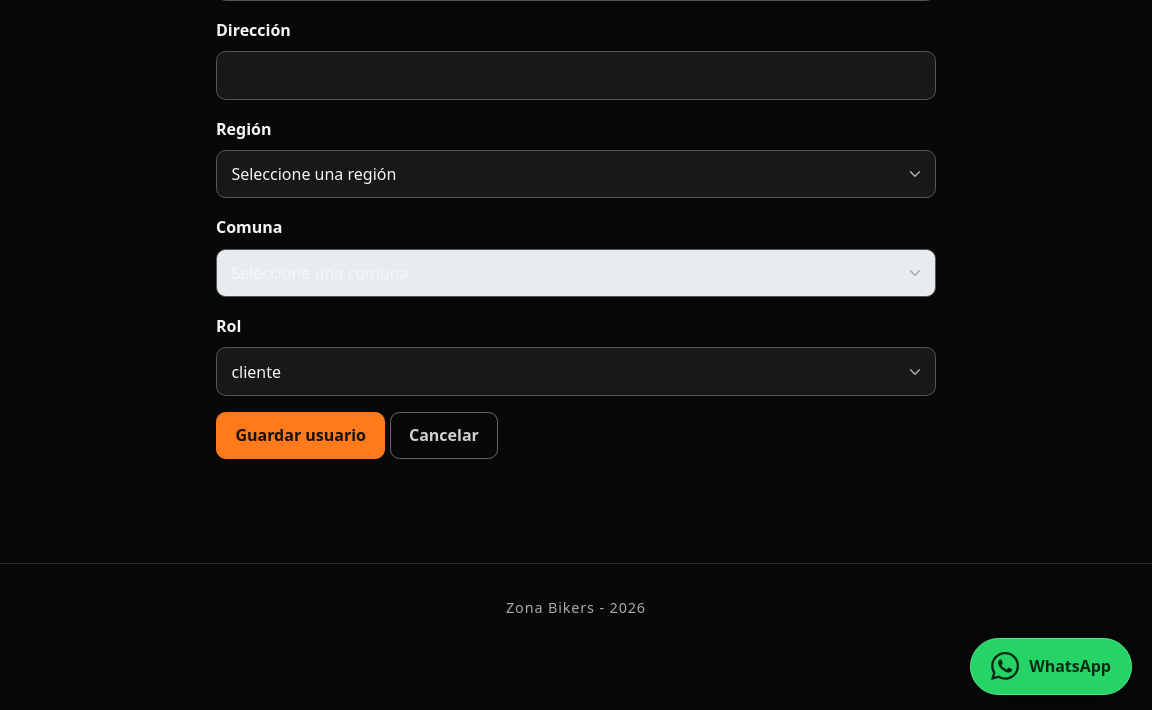
Test case: Administración persistente › crea una cuenta y vuelve al listado
The width and height of the screenshot is (1152, 710).
(page scrolled)
Click the button "Guardar usuario": click(301, 435) [216, 412, 385, 459]
(page scrolled)
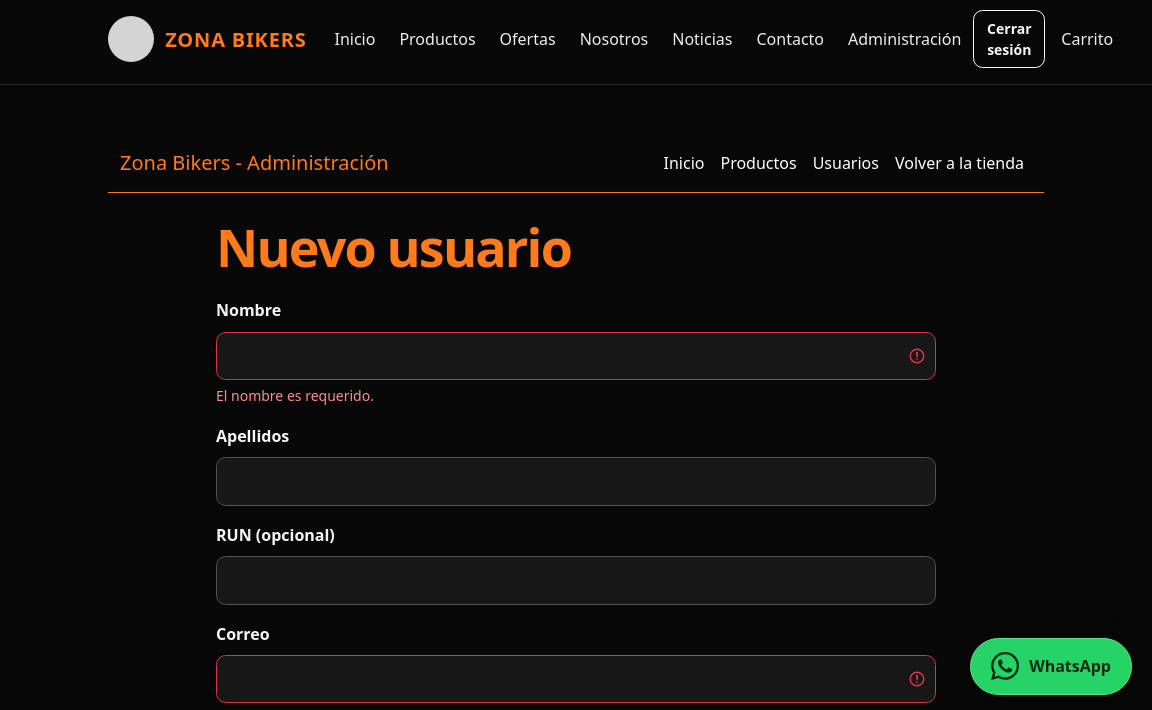
Expected: the text "El nombre es requerido." is shown, [216, 386, 374, 405]
In the field labelled "Nombre": (576, 356) [216, 332, 936, 380], type "Persona de prueba"
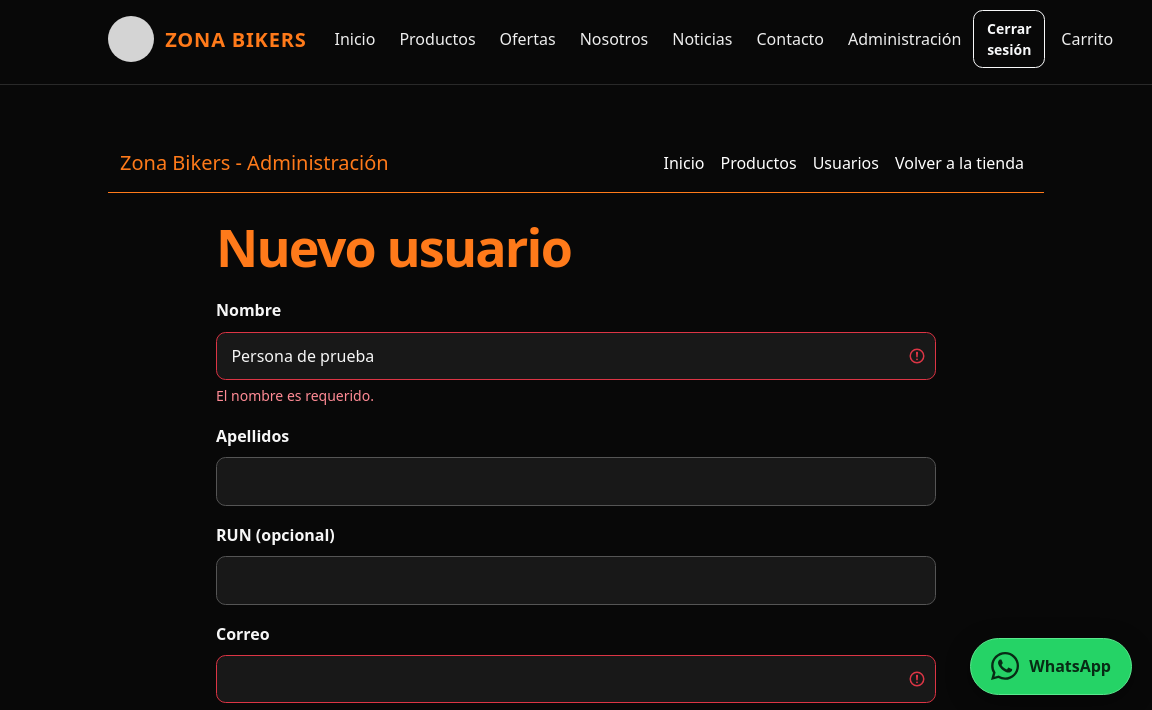
In the field labelled "Correo": (576, 679) [216, 655, 936, 703], type "persona@gmail.com"
(page scrolled)
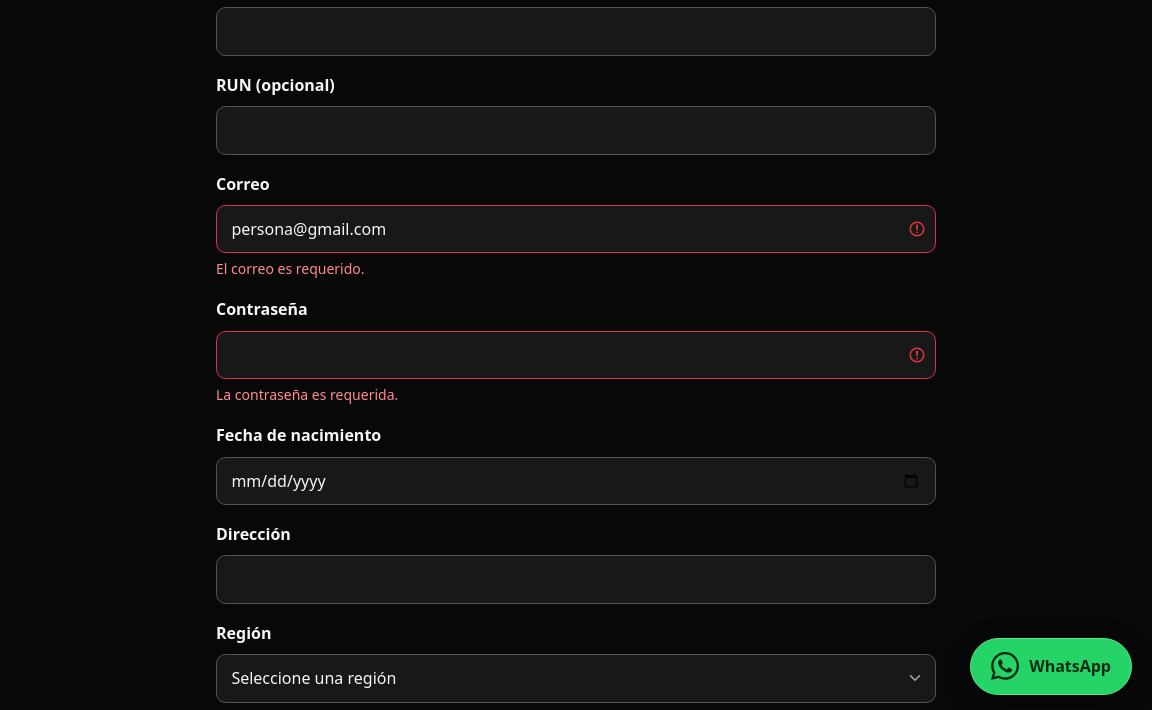
In the password field labelled "Contraseña": (576, 355) [216, 331, 936, 379], type "12345"
(page scrolled)
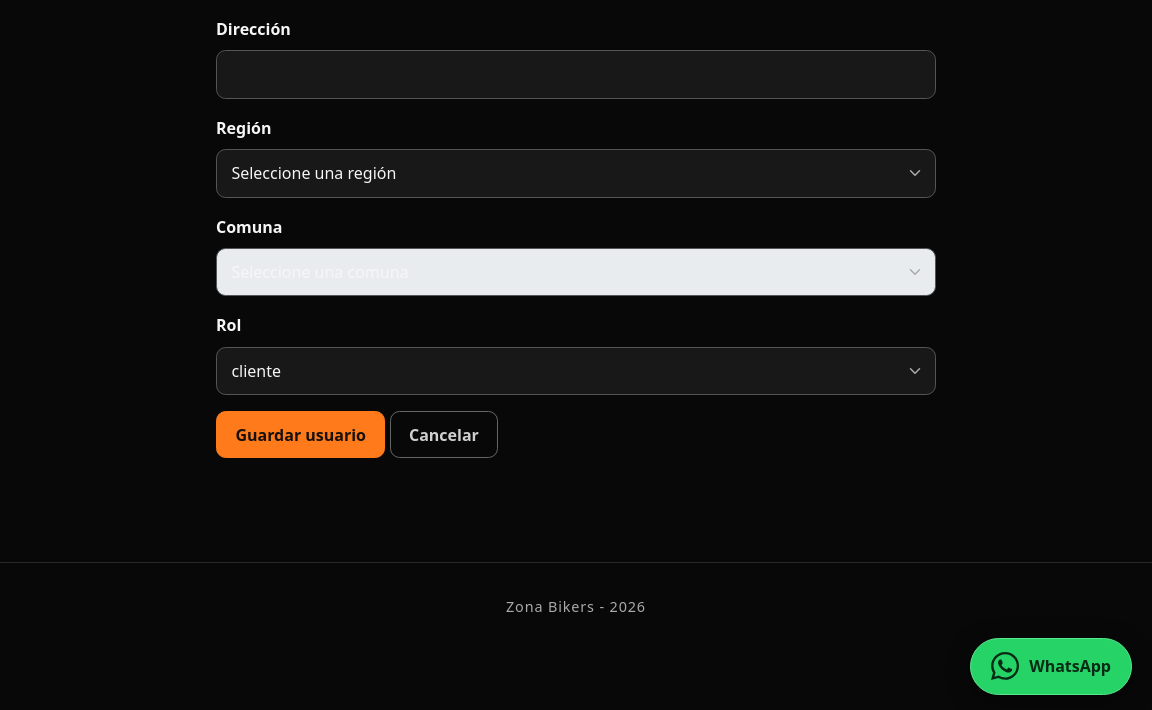
Select "vendedor" in the dropdown labelled "Rol": (576, 371) [216, 347, 936, 395]
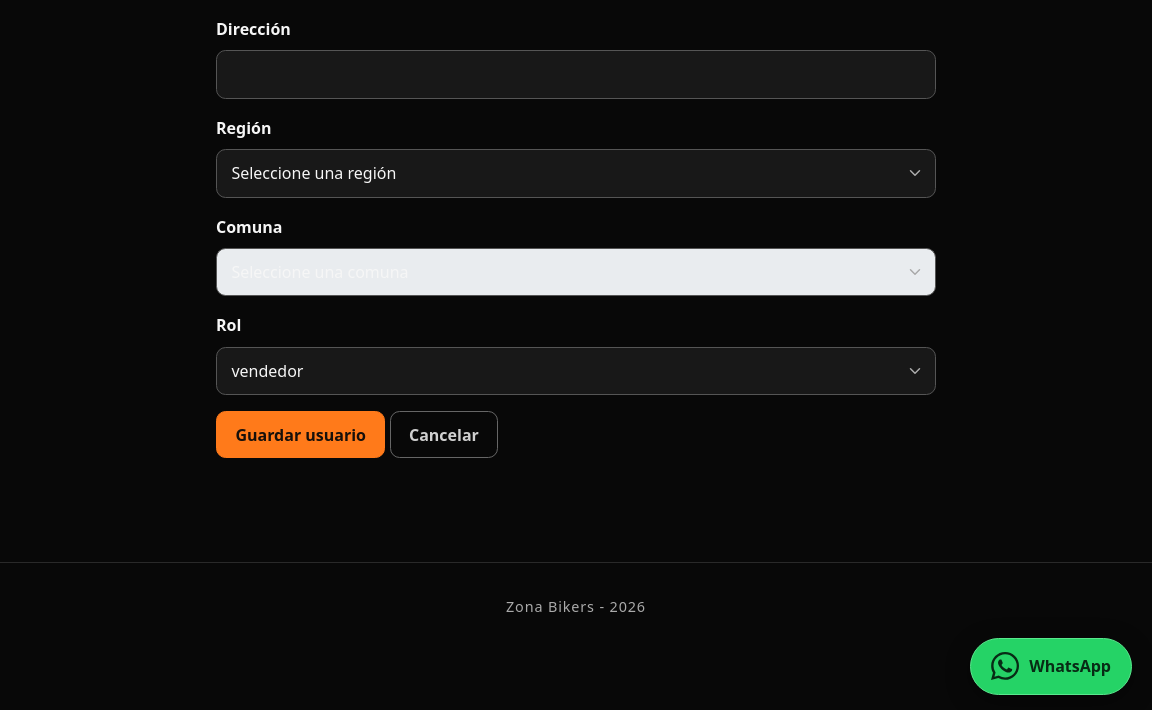
Click the button "Guardar usuario": click(301, 434) [216, 411, 385, 458]
(page scrolled)
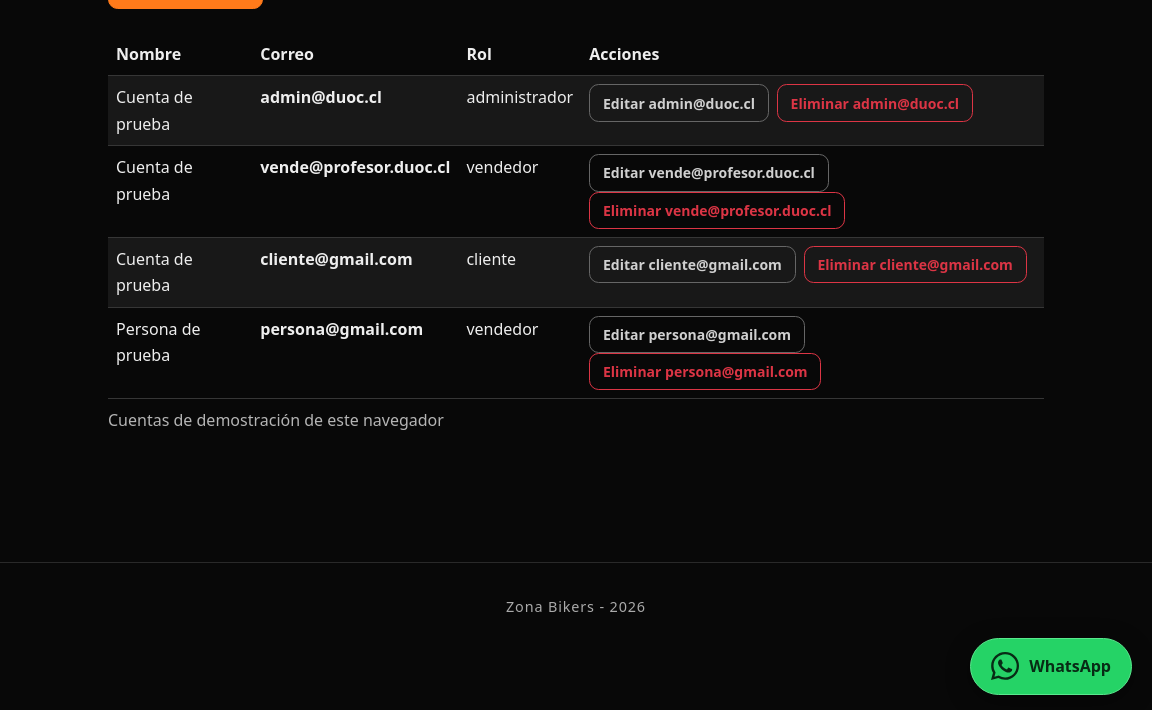
Expected: the column heading "persona@gmail.com" is shown, [252, 307, 458, 399]
Expected: the 1st cell "vendedor" is shown, [458, 146, 581, 237]
